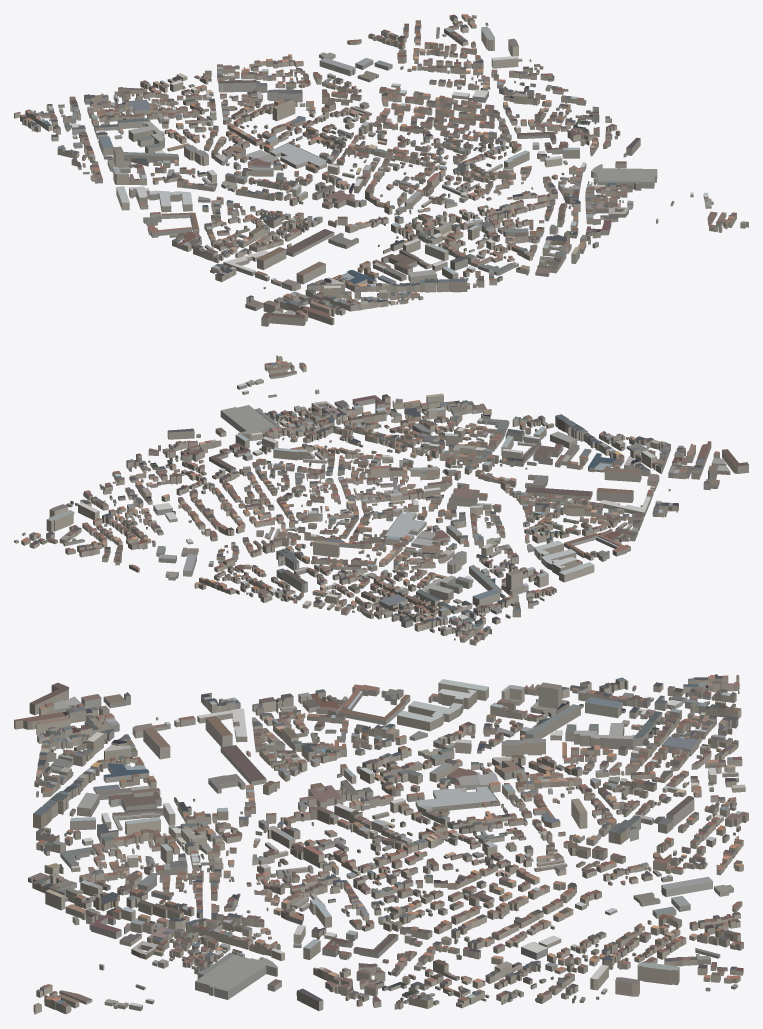
3 views of the same model, one above another, from view 1: azimuth 30°, elevation 25°; view 2: azimuth 150°, elevation 25°; view 3: azimuth 270°, elevation 25° (orthographic). The views are drawn at different scales.
Visible parts, largest first — view 1: tuile; view 2: tuile; view 3: tuile.
Boxes of the visible parts, left/top/right/bottom form: tuile: left=14, top=14, right=748, bottom=326; tuile: left=14, top=355, right=748, bottom=645; tuile: left=14, top=674, right=748, bottom=1014.
Size of the model in its own units: 1031 by 80.35 by 1045.
